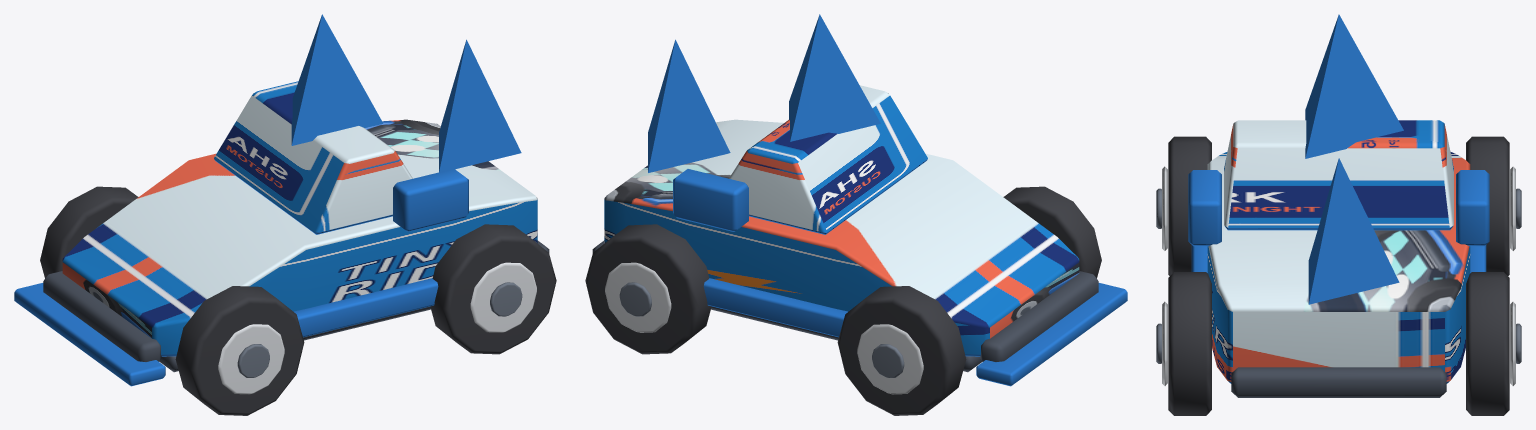
The picture shows the model from 3 angles, left to right: view 1: azimuth 30°, elevation 25°; view 2: azimuth 150°, elevation 25°; view 3: azimuth 270°, elevation 25°; orthographic projection. The views are drawn at different scales.
Visible parts, largest first — view 1: CR-01_connected_shell, CR-01_cabin, Tire, Tire.002, dorsal fin, shark tail upper fin, custom chin, custom side guard, custom side fin, Tire.001, front bumper, Rim (+4 smaller); view 2: CR-01_connected_shell, CR-01_cabin, Tire.001, Tire.003, dorsal fin, shark tail upper fin, custom chin, custom side guard.001, custom side fin.001, Tire, front bumper, Rim.001 (+4 smaller); view 3: CR-01_connected_shell, CR-01_cabin, dorsal fin, shark tail upper fin, rear bumper, Tire.002, Tire.003, Tire, Tire.001, custom side fin, custom side fin.001, Rim (+5 smaller).
Part boxes in pixels (x1=…): CR-01_connected_shell: x1=62, y1=119, x2=537, y2=356; CR-01_cabin: x1=214, y1=81, x2=412, y2=234; Tire: x1=175, y1=286, x2=304, y2=415; Tire.002: x1=430, y1=224, x2=556, y2=354; dorsal fin: x1=291, y1=14, x2=383, y2=145; shark tail upper fin: x1=439, y1=39, x2=521, y2=172; custom chin: x1=14, y1=283, x2=165, y2=386; custom side guard: x1=294, y1=278, x2=438, y2=337; custom side fin: x1=393, y1=169, x2=468, y2=231; Tire.001: x1=40, y1=186, x2=138, y2=278; front bumper: x1=43, y1=271, x2=161, y2=361; Rim: x1=218, y1=324, x2=284, y2=394; CR-01_connected_shell: x1=604, y1=119, x2=1079, y2=356; CR-01_cabin: x1=729, y1=85, x2=927, y2=234; Tire.001: x1=837, y1=286, x2=966, y2=415; Tire.003: x1=585, y1=224, x2=711, y2=354; dorsal fin: x1=789, y1=14, x2=880, y2=141; shark tail upper fin: x1=648, y1=39, x2=730, y2=172; custom chin: x1=976, y1=283, x2=1127, y2=386; custom side guard.001: x1=703, y1=278, x2=847, y2=337; custom side fin.001: x1=673, y1=169, x2=748, y2=231; Tire: x1=1003, y1=186, x2=1101, y2=278; front bumper: x1=980, y1=271, x2=1098, y2=361; Rim.001: x1=857, y1=324, x2=923, y2=394; CR-01_connected_shell: x1=1207, y1=152, x2=1470, y2=383; CR-01_cabin: x1=1224, y1=120, x2=1453, y2=230; dorsal fin: x1=1305, y1=14, x2=1403, y2=158; shark tail upper fin: x1=1308, y1=158, x2=1399, y2=304; rear bumper: x1=1231, y1=367, x2=1446, y2=397; Tire.002: x1=1168, y1=272, x2=1211, y2=415; Tire.003: x1=1466, y1=272, x2=1509, y2=415; Tire: x1=1168, y1=136, x2=1211, y2=275; Tire.001: x1=1466, y1=136, x2=1509, y2=275; custom side fin: x1=1188, y1=170, x2=1221, y2=246; custom side fin.001: x1=1456, y1=170, x2=1489, y2=246; Rim: x1=1162, y1=166, x2=1167, y2=250.
Size of the model in its own units: 329 by 224 by 217.
